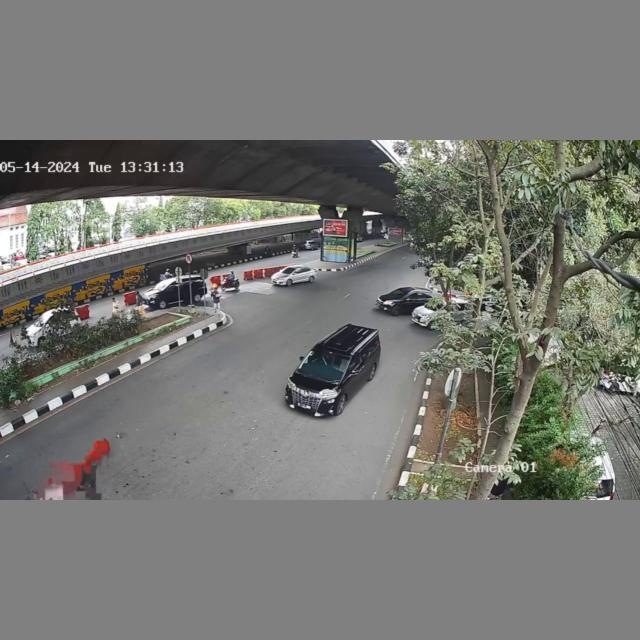windshield: (300, 346, 348, 383)
